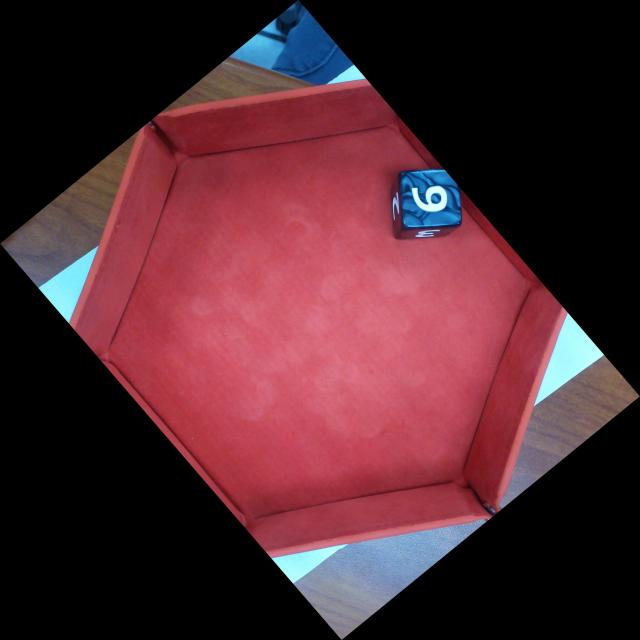dice: (397, 166, 463, 229)
